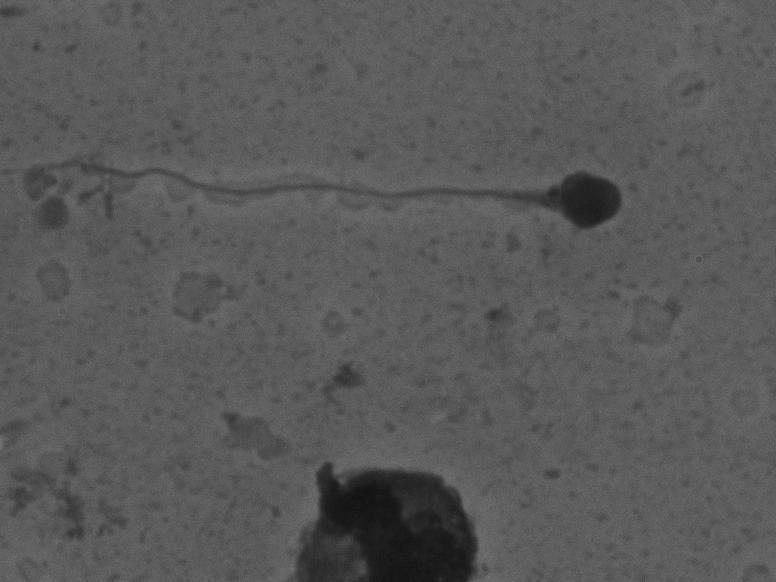Abnormal: (21, 126, 648, 237)
